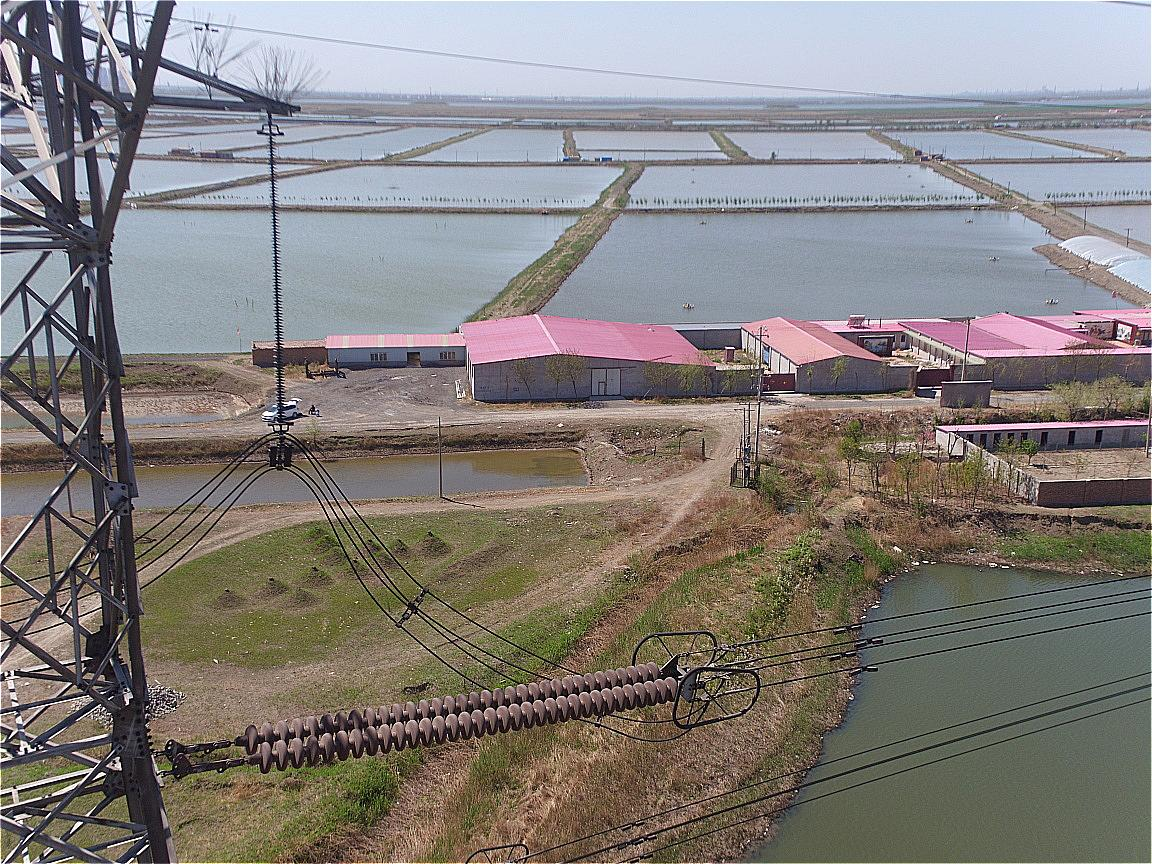insultor1: (244, 662, 680, 772)
